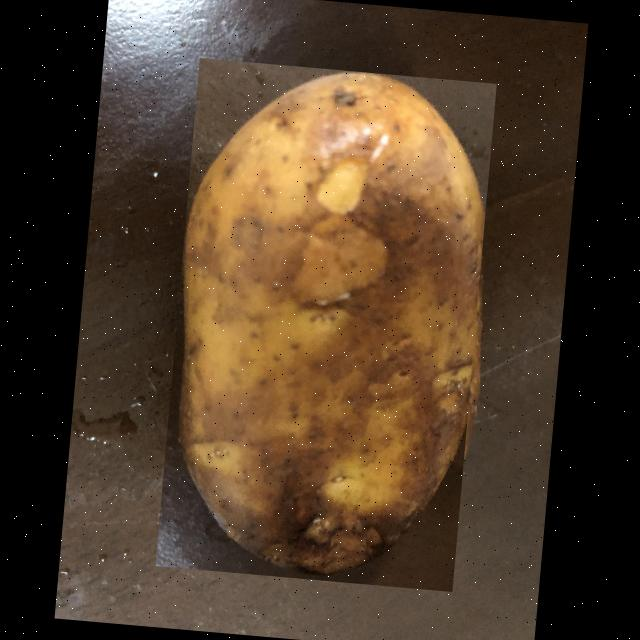Defected potato: (154, 57, 496, 590)
